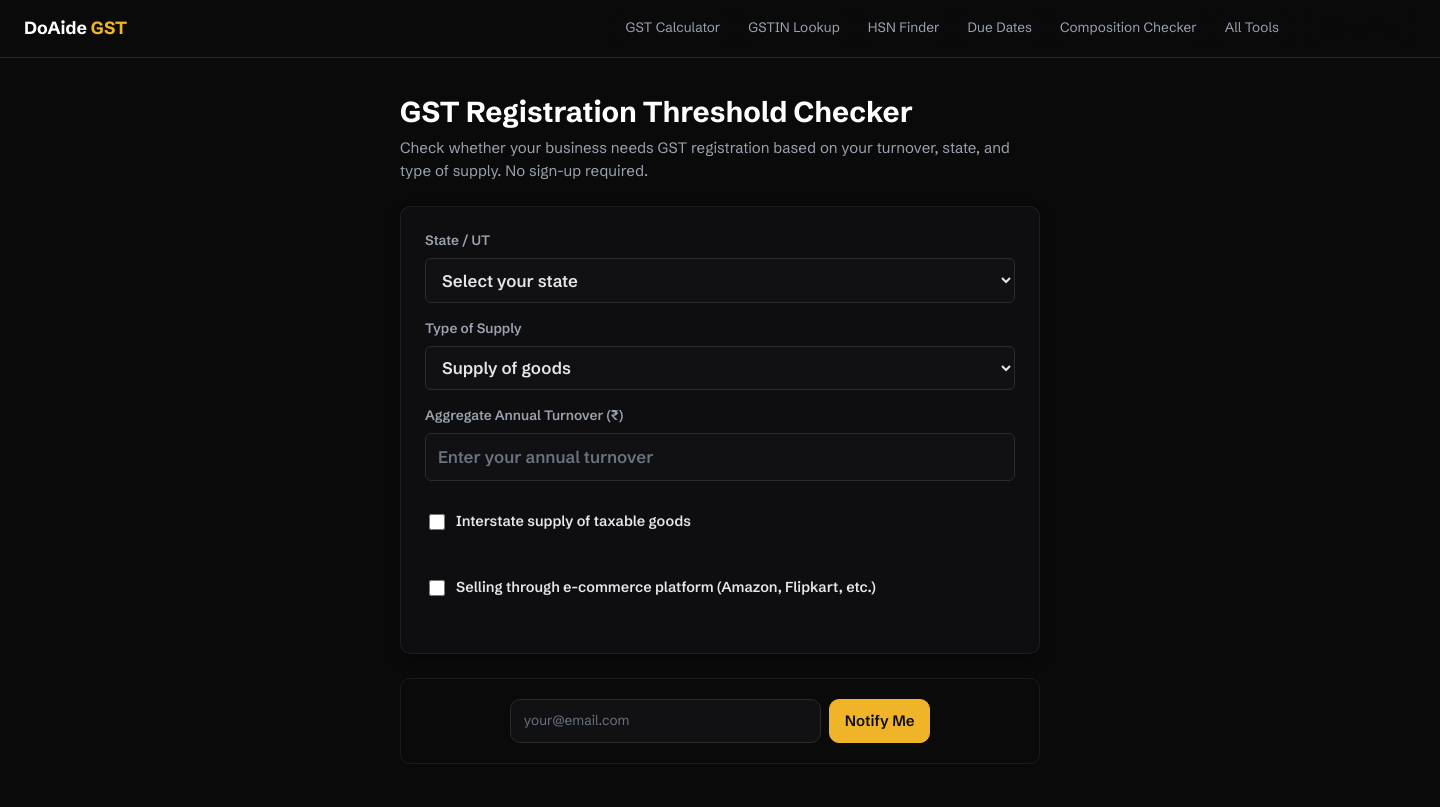
Scenario: TurnoverLimitPage › shows required when turnover exceeds threshold
Select "Maharashtra" in the dropdown labelled "State / UT" at (720, 280), box [425,258,1015,303]
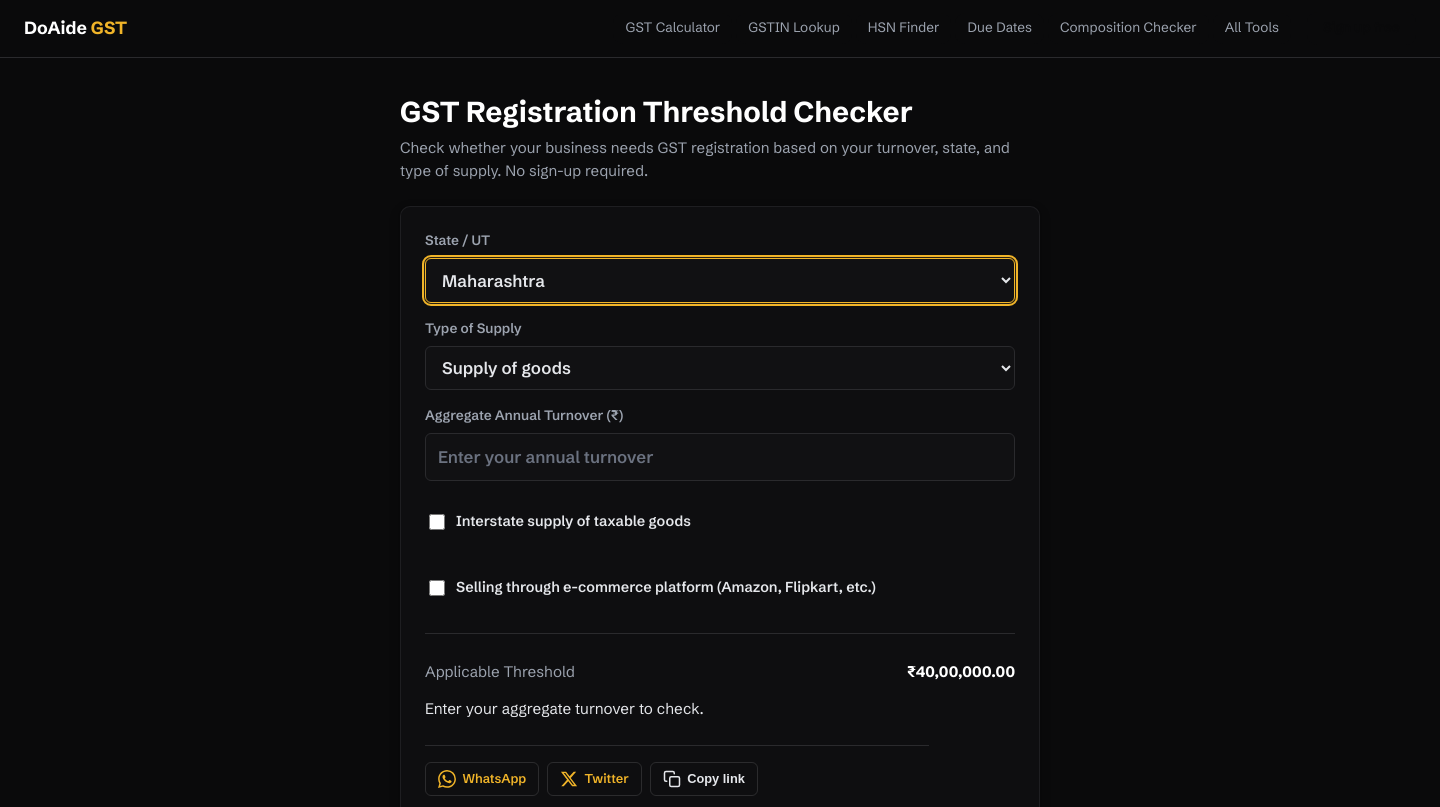
Type "5000000" into the number field with placeholder "Enter your annual turnover" at (720, 457), box [425,433,1015,481]
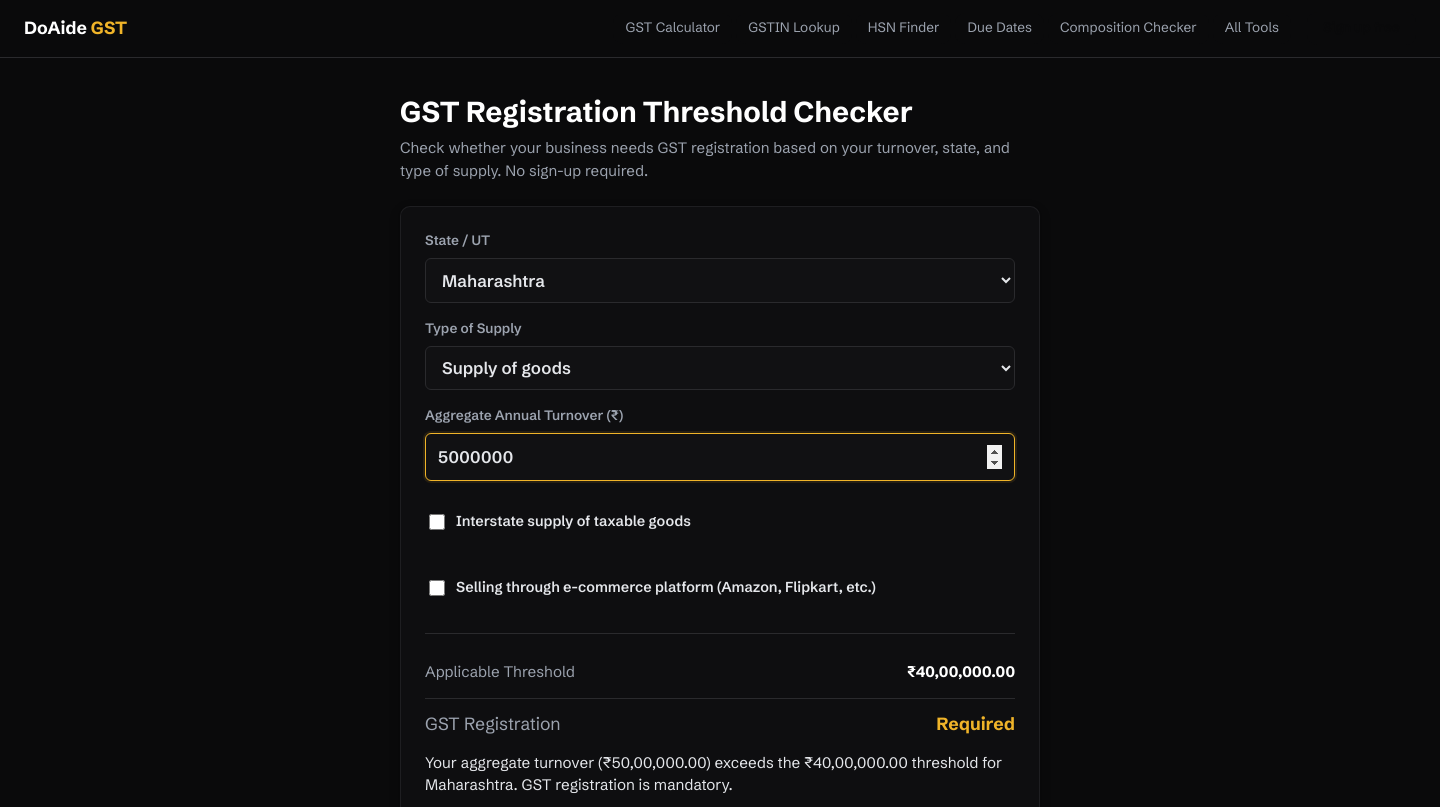
Expected: the text "Required" is shown, [936,711,1015,737]
